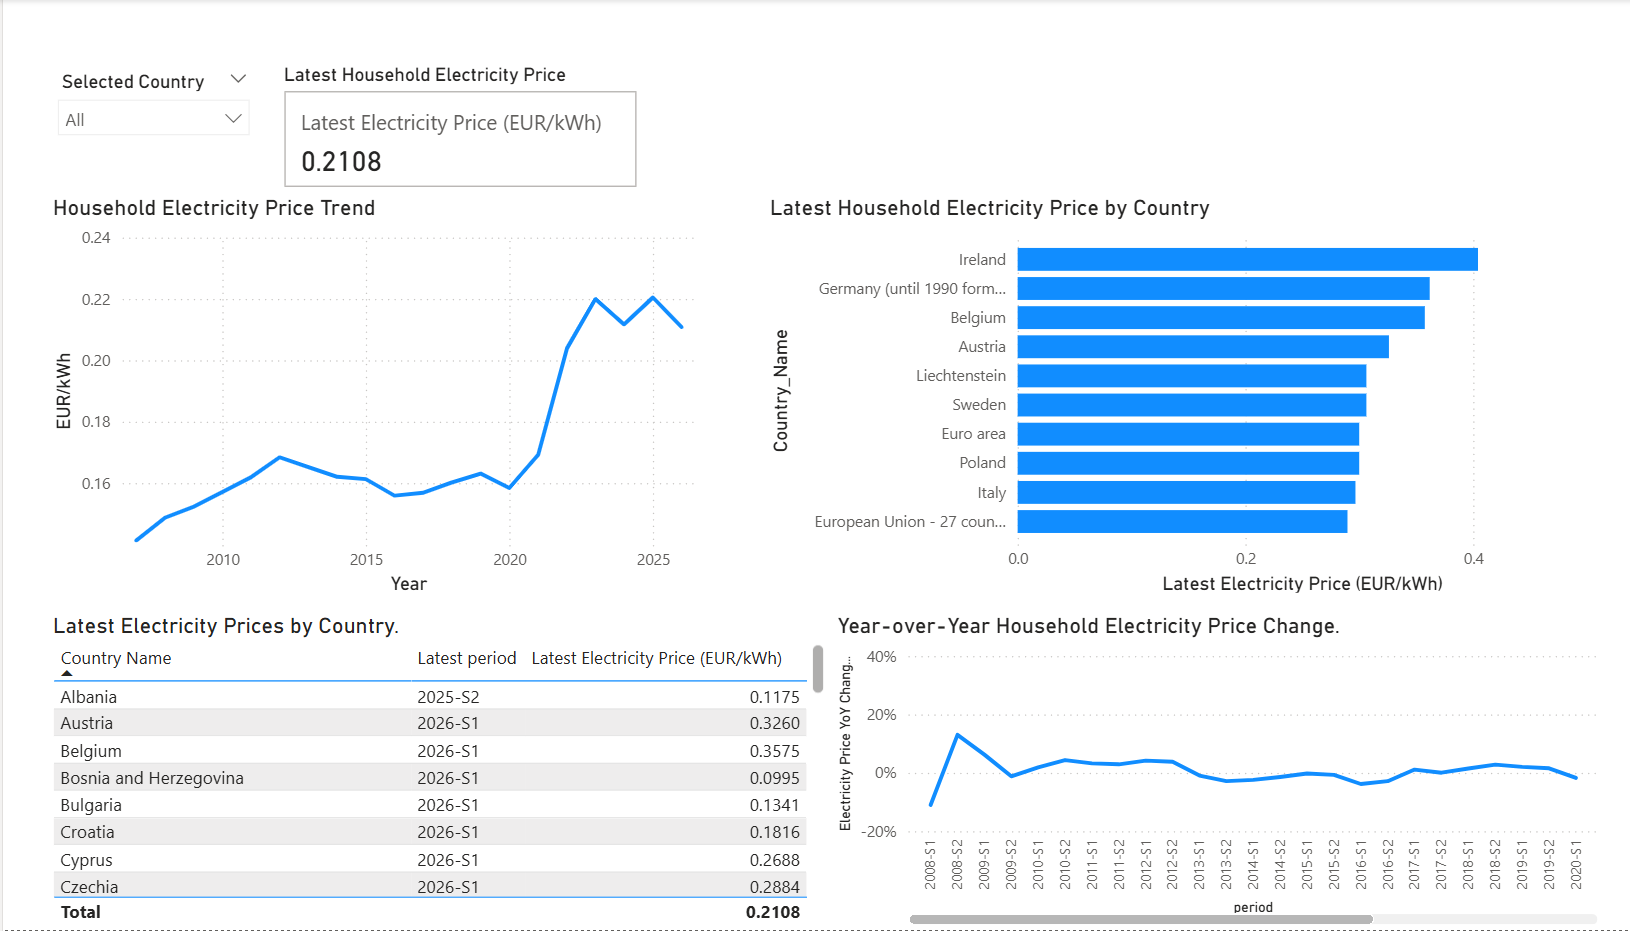

What the dashboard file says about the page in this screenshot:
{"tool":"powerbi","page":{"name":"Electricity Prices","canvas":[1280,720],"ordinal":2},"visuals":[{"type":"cardVisual","title":"Latest Household Electricity Price","fields":{"Data":["fact_electricity_prices.Latest Electricity Price (EUR/kWh)"]},"box":[212,49.8,282.7,100.8],"z":0},{"type":"slicer","fields":{"Values":["dim_price_country.Country_Name"]},"box":[32.4,49.8,168,100.8],"z":1000},{"type":"lineChart","title":"Household Electricity Price Trend","fields":{"Category":["fact_electricity_prices.date.Variation.Date Hierarchy.Year","fact_electricity_prices.date.Variation.Date Hierarchy.Quarter","fact_electricity_prices.date.Variation.Date Hierarchy.Month","fact_electricity_prices.date.Variation.Date Hierarchy.Day"],"Y":["fact_electricity_prices.Electricity Price (EUR/kWh)"]},"box":[33.9,151.1,508.2,313.4],"z":2000},{"type":"clusteredBarChart","title":"Latest Household Electricity Price by Country","fields":{"Category":["dim_price_country.Country_Name"],"Y":["fact_electricity_prices.Latest Electricity Price (EUR/kWh)"]},"box":[587.5,150.6,648.9,312.9],"z":3000},{"type":"tableEx","title":"Latest Electricity Prices by Country.","fields":{"Values":["dim_price_country.Country_Name","fact_electricity_prices.period","fact_electricity_prices.Latest Electricity Price (EUR/kWh)"]},"box":[33.9,474.4,605.7,245.6],"z":4000},{"type":"lineChart","title":"Year-over-Year Household Electricity Price Change.","fields":{"Y":["fact_electricity_prices.Electricity Price YoY Change (%)"],"Category":["fact_electricity_prices.period"]},"box":[639.6,473.9,596.7,245.7],"z":5000}]}

Visuals, with their boxes in screenshot pixels (x1, y1, x2, y2), scaled from the page's 1280x720 canvas onto the 1630x931 screenshot:
"Latest Household Electricity Price" cardVisual: left=270, top=64, right=630, bottom=195
slicer - dim_price_country.Country_Name: left=41, top=64, right=255, bottom=195
"Household Electricity Price Trend" lineChart: left=43, top=195, right=690, bottom=601
"Latest Household Electricity Price by Country" clusteredBarChart: left=748, top=195, right=1574, bottom=599
"Latest Electricity Prices by Country." tableEx: left=43, top=613, right=814, bottom=930
"Year-over-Year Household Electricity Price Change." lineChart: left=814, top=613, right=1574, bottom=930
